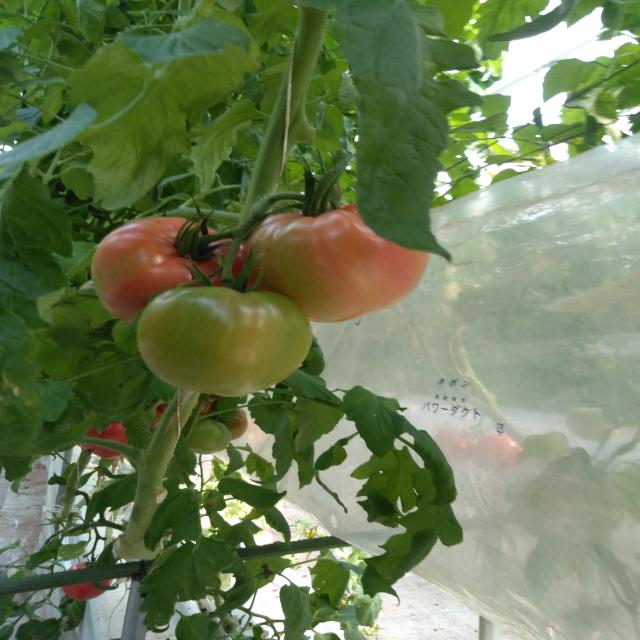n-half-riped: (242, 202, 430, 323), (90, 217, 257, 328), (218, 407, 248, 441)
n-riped: (62, 562, 115, 600), (80, 422, 127, 459)
n-unriped: (136, 286, 314, 398), (182, 419, 232, 455)
